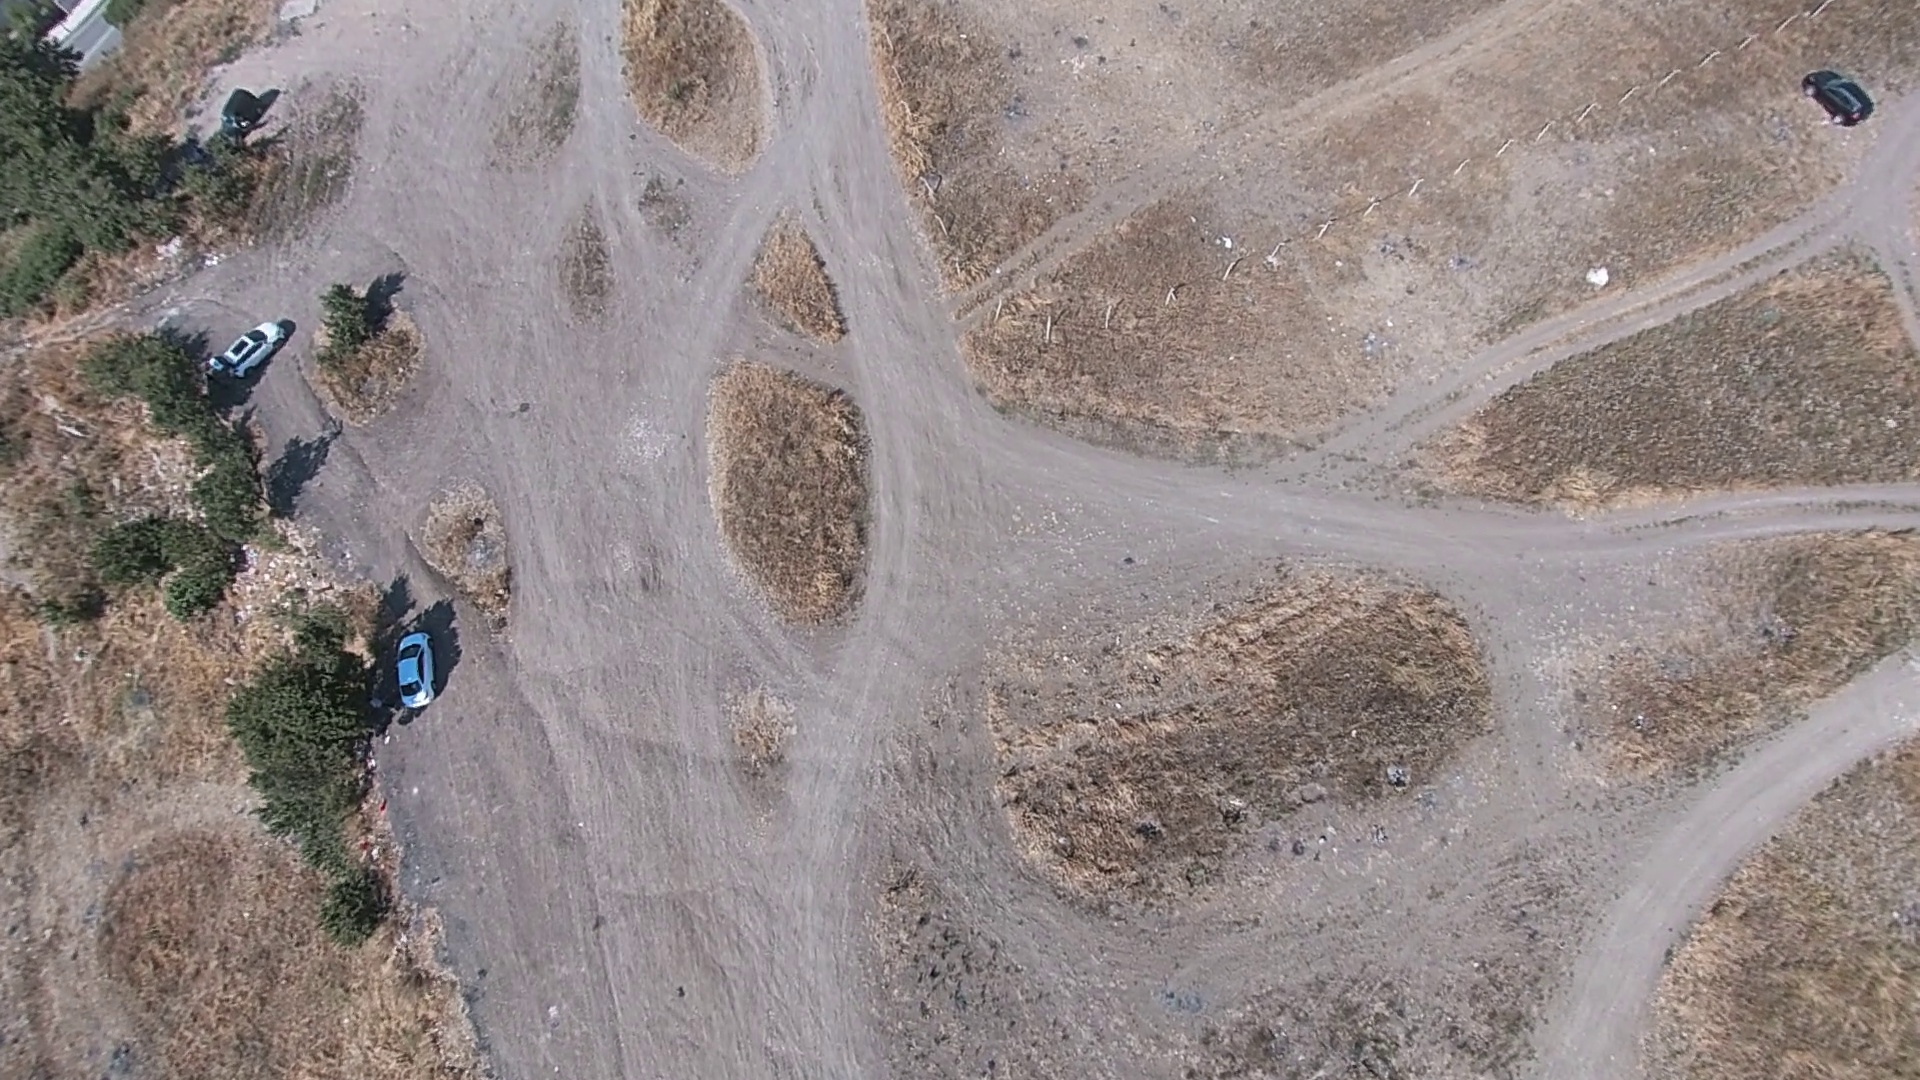araba: (202, 313, 295, 381), (1801, 58, 1874, 135), (386, 625, 436, 713)
